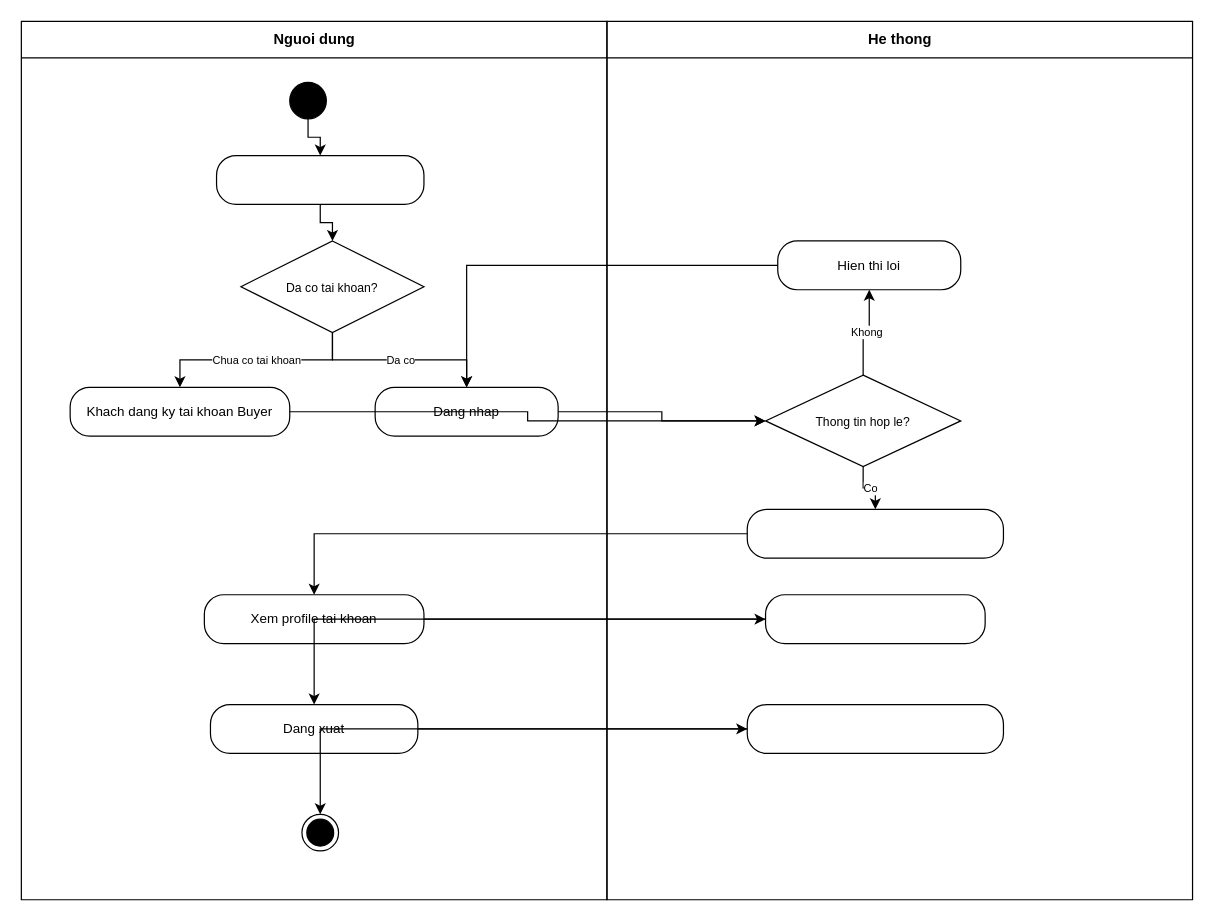
Some shapes in this 1214 by 921 pixel diagram are drawn without their labels. Here are the shapes that lost their labels. From the top down, the centre of each, then its label:
the point at 319,179: Mo ung dung
the point at 874,533: Dieu huong dashboard theo role
the point at 874,619: Hien thi profile
the point at 874,728: Quay ve man hinh dang nhap
